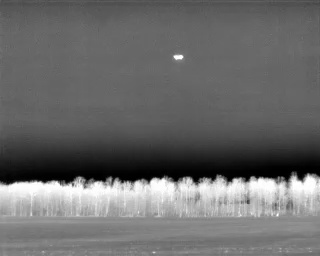DRONE: (170, 50, 188, 65)
